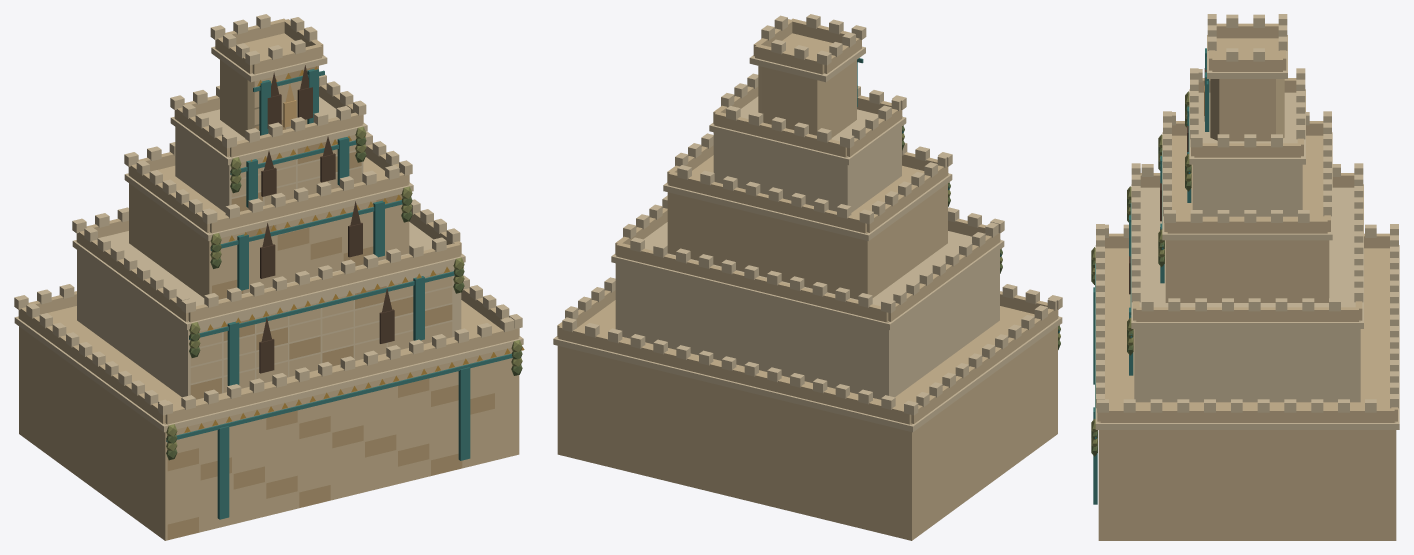
Rendered from stepped-building.glb.
3 renders of one model, left to right at view 1: azimuth 30°, elevation 25°; view 2: azimuth 150°, elevation 25°; view 3: azimuth 270°, elevation 25°, orthographic.
Visible parts, largest first — view 1: stepped-building-surface; view 2: stepped-building-surface; view 3: stepped-building-surface.
Part boxes in pixels (box(x1,y1,x2,y2)): stepped-building-surface: box(14, 14, 524, 540); stepped-building-surface: box(553, 14, 1062, 540); stepped-building-surface: box(1093, 14, 1399, 540).
Bounding box in the file's own units: 14.27 × 15.56 × 10.36.
